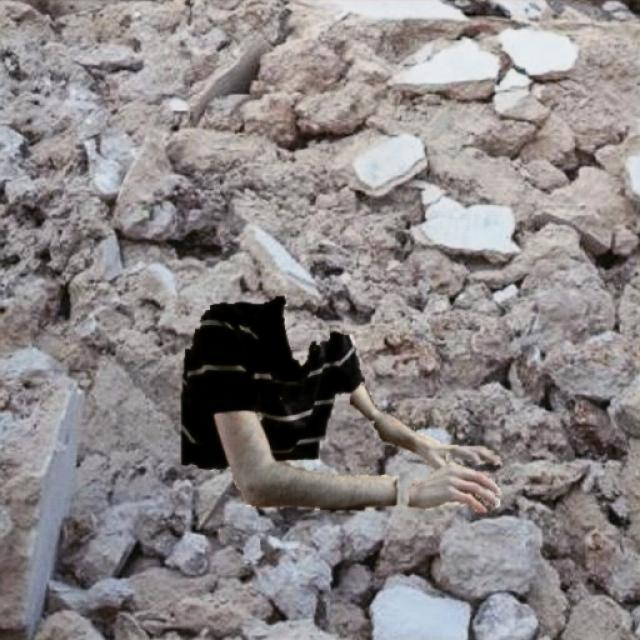Person in Rubble: (182, 296, 502, 512)
